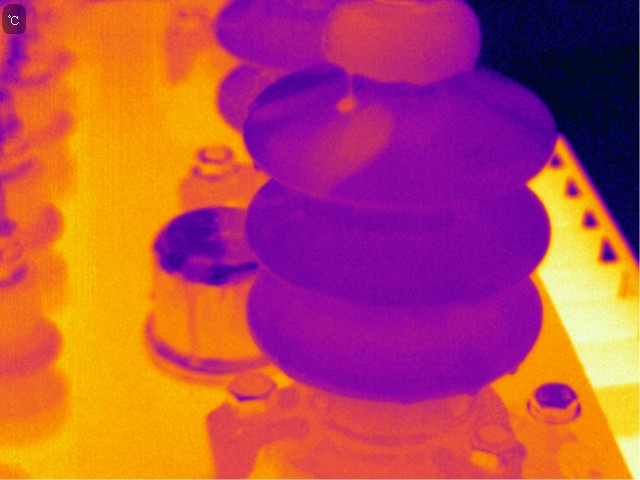Oil: (320, 1, 478, 81), (302, 113, 396, 193), (253, 103, 298, 121), (333, 91, 359, 112), (503, 363, 522, 377)
